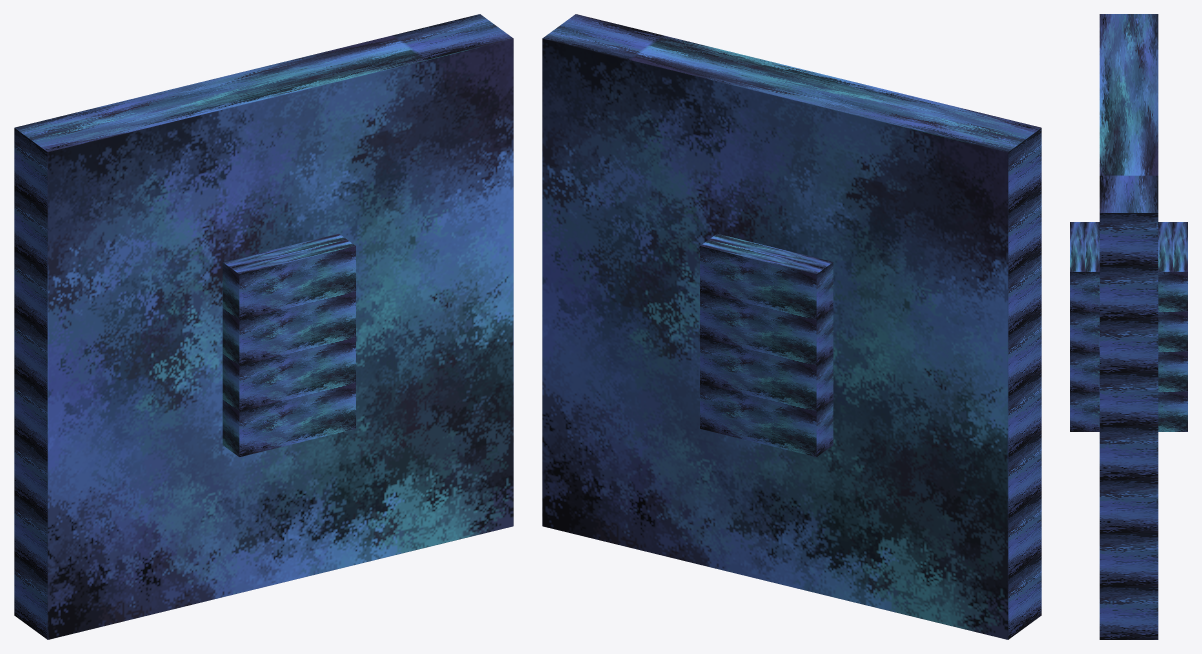
The model's file is wall.fbx.
3 renders of one model, left to right at view 1: azimuth 30°, elevation 25°; view 2: azimuth 150°, elevation 25°; view 3: azimuth 270°, elevation 25°, orthographic. The views are drawn at different scales.
Visible parts, largest first — view 1: cuboid, cuboid_1; view 2: cuboid, cuboid_1; view 3: cuboid, cuboid_1.
Boxes of the visible parts, bbox=[...] form: cuboid: bbox=[14, 14, 513, 639]; cuboid_1: bbox=[222, 233, 355, 456]; cuboid: bbox=[542, 14, 1041, 639]; cuboid_1: bbox=[700, 233, 833, 456]; cuboid: bbox=[1099, 14, 1158, 639]; cuboid_1: bbox=[1070, 222, 1187, 431].
Bounding box in the file's own units: 100 × 100 × 25.
2 materials, 2 textured.
